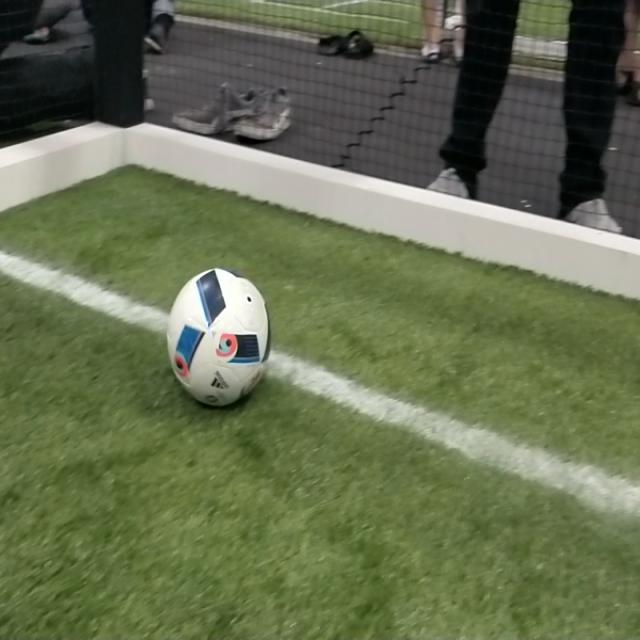ball: (166, 267, 272, 408)
